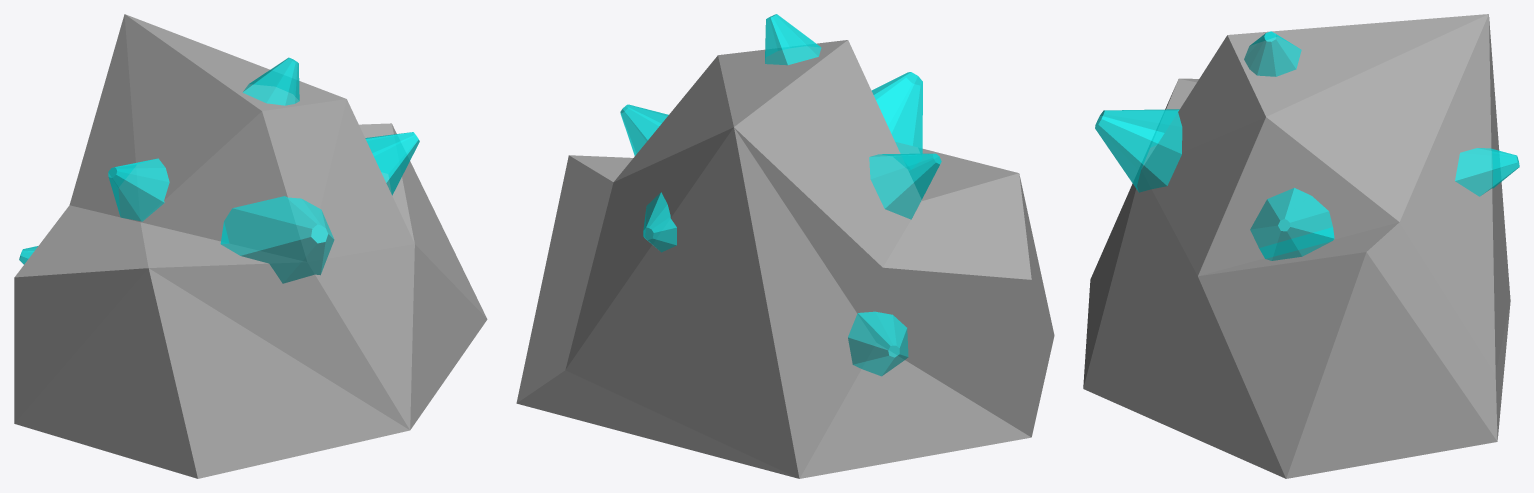
The picture shows the model from 3 angles, left to right: view 1: azimuth 30°, elevation 25°; view 2: azimuth 150°, elevation 25°; view 3: azimuth 270°, elevation 25°; orthographic projection. The views are drawn at different scales.
Visible parts, largest first — view 1: Prop_Ore_Node_Blue_03, Prop_Ore_Node_Blue_03.001; view 2: Prop_Ore_Node_Blue_03, Prop_Ore_Node_Blue_03.001; view 3: Prop_Ore_Node_Blue_03, Prop_Ore_Node_Blue_03.001.
Boxes of the visible parts, x1,y1,x2,y2 form: Prop_Ore_Node_Blue_03: (14,14,487,478); Prop_Ore_Node_Blue_03.001: (19,57,419,283); Prop_Ore_Node_Blue_03: (516,40,1054,478); Prop_Ore_Node_Blue_03.001: (620,14,941,376); Prop_Ore_Node_Blue_03: (1083,14,1510,478); Prop_Ore_Node_Blue_03.001: (1095,31,1519,260).
Size of the model in its own units: 111 by 84.41 by 84.49.
